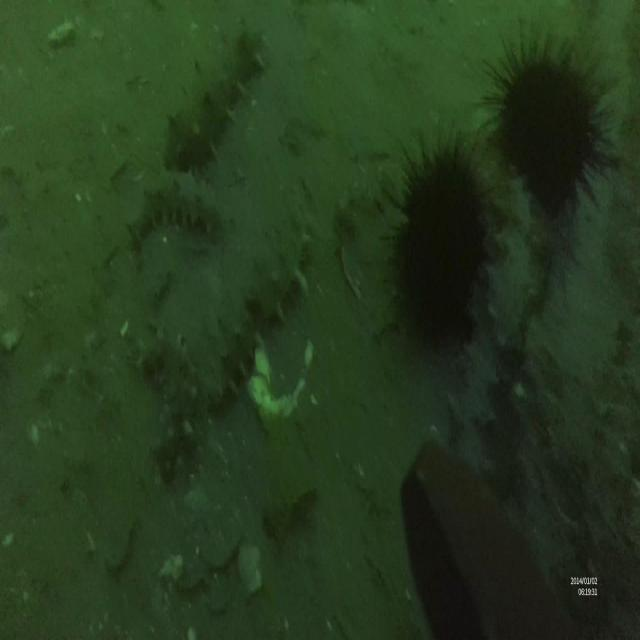echinus: (484, 27, 622, 217), (390, 128, 495, 344)
holothurian: (168, 26, 264, 172), (143, 328, 208, 485), (245, 227, 315, 329), (129, 183, 224, 249), (204, 321, 253, 412)
